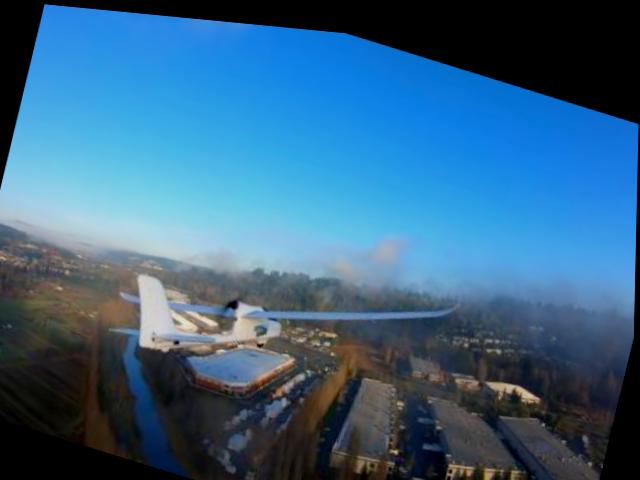uav: (96, 187, 470, 437)
